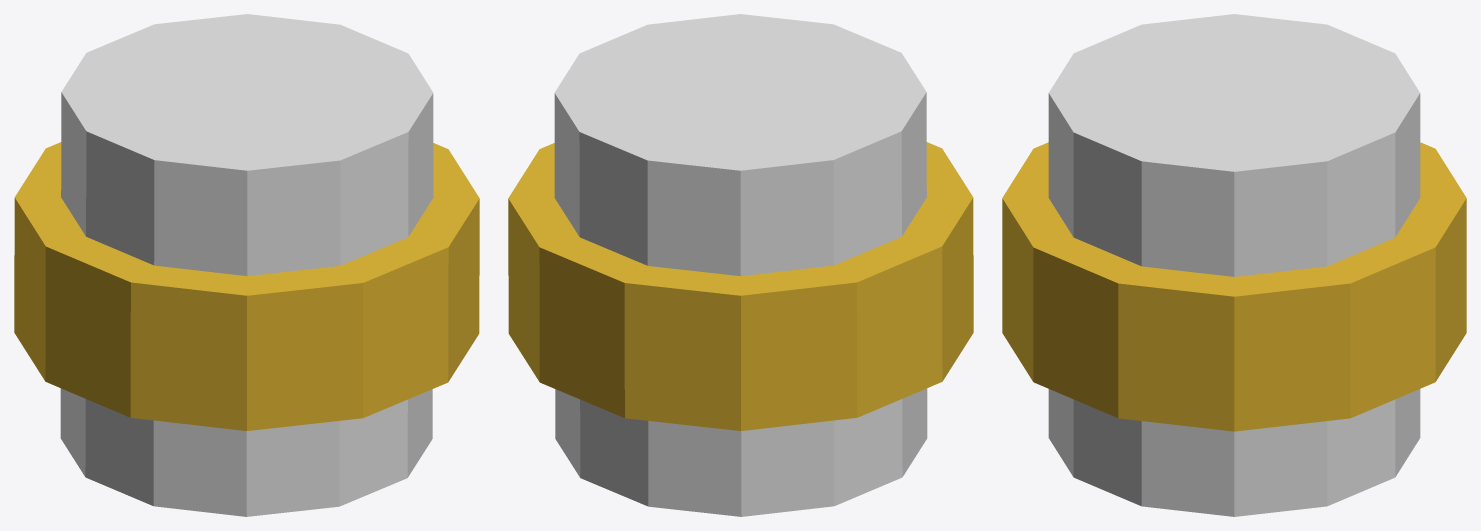
File: coin.glb
3 renders of one model, left to right at view 1: azimuth 30°, elevation 25°; view 2: azimuth 150°, elevation 25°; view 3: azimuth 270°, elevation 25°, orthographic.
Visible parts, largest first — view 1: Cylinder.002, Cylinder, Cylinder.001; view 2: Cylinder.002, Cylinder, Cylinder.001; view 3: Cylinder.002, Cylinder, Cylinder.001.
Part boxes in pixels (x1,y1,x2,y2): Cylinder.002: (61,14,433,276); Cylinder: (14,142,479,430); Cylinder.001: (60,388,432,516); Cylinder.002: (554,14,926,276); Cylinder: (508,142,973,430); Cylinder.001: (555,388,927,516); Cylinder.002: (1048,14,1420,276); Cylinder: (1002,142,1466,431); Cylinder.001: (1048,389,1420,516).
Size of the model in its own units: 2 by 1.65 by 2.
